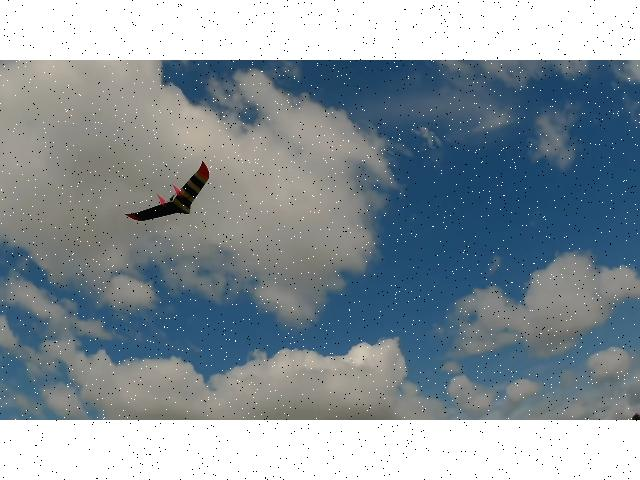Anti-Drone: (124, 162, 210, 222)
